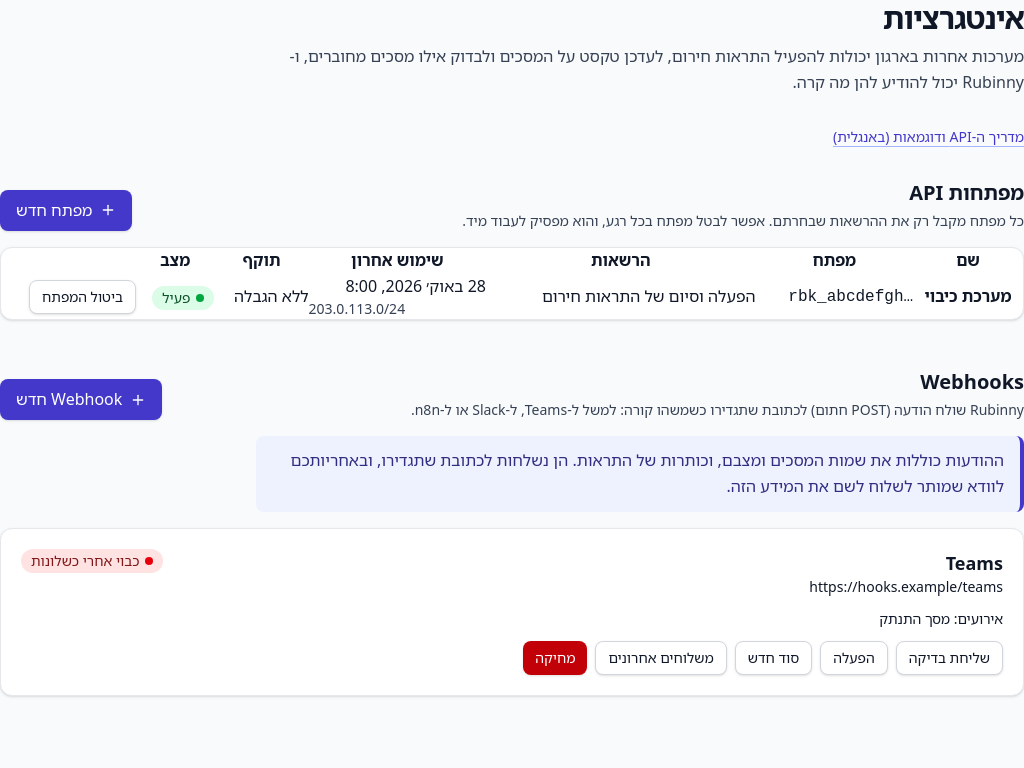
Scenario: integrations page › lists keys without their secret, and shows a new key once
Expected: the text "מערכת כיבוי" is shown, left=924, top=285, right=1012, bottom=307
Expected: the text "rbk_abcdefgh…" is shown, left=788, top=288, right=913, bottom=306
Click the button "מפתח חדש".
click(66, 210)  # box left=0, top=190, right=132, bottom=231
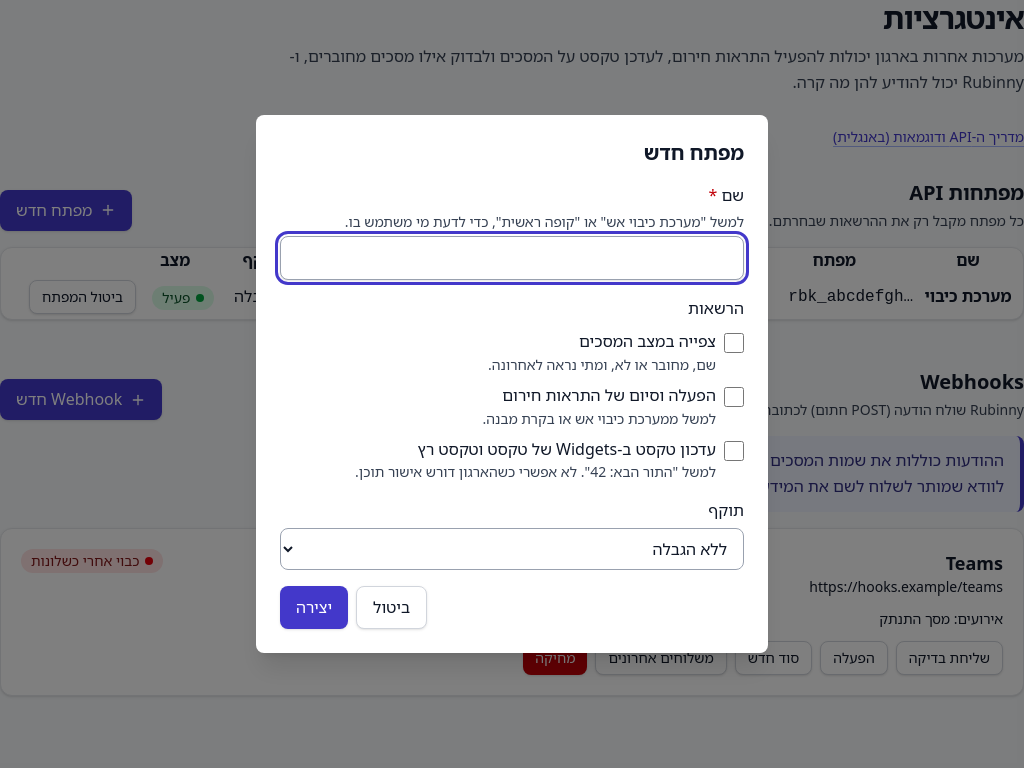
Type "קופה" into the field labelled "שם *".
click(512, 258); type("קופה")  # box left=280, top=236, right=744, bottom=280
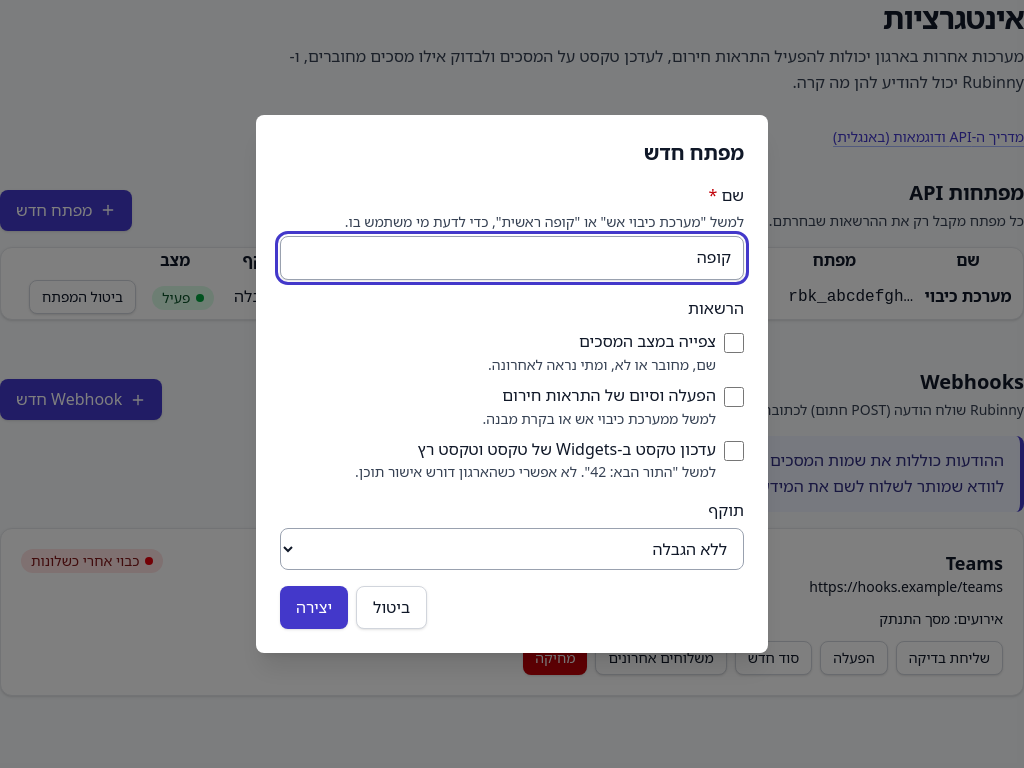
Click the checkbox labelled "עדכון טקסט ב-Widgets של טקסט וטקסט רץ".
click(734, 451)  # box left=724, top=441, right=744, bottom=461
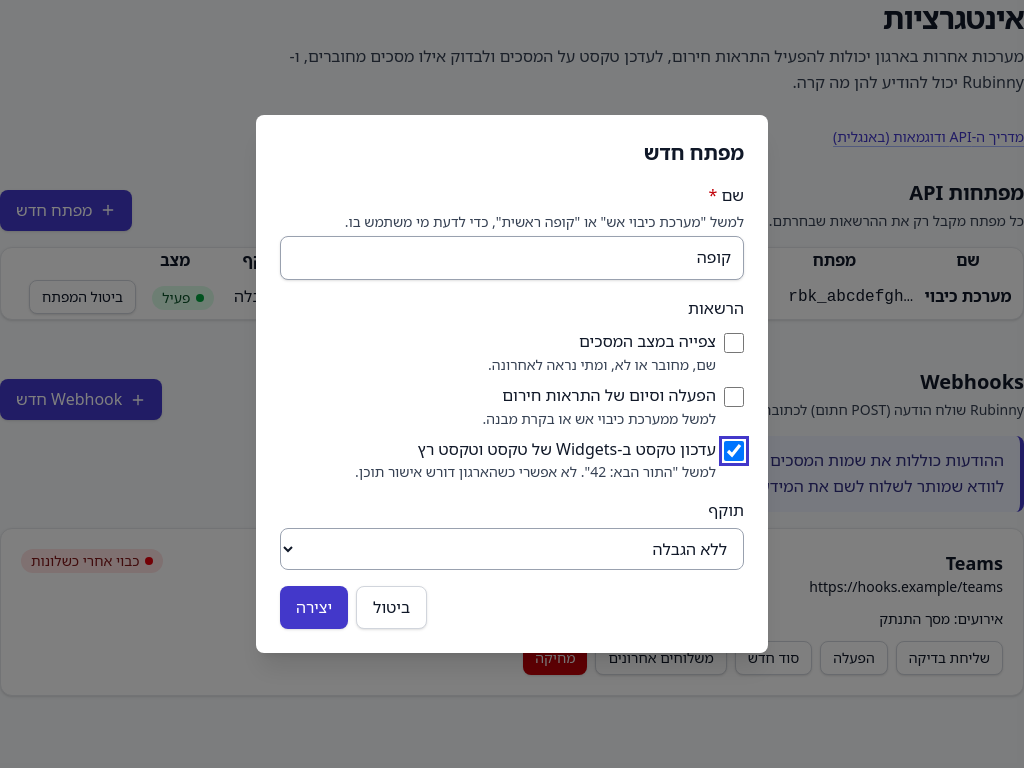
Select "90 ימים" in the dropdown labelled "תוקף" at point(512, 549), box left=280, top=528, right=744, bottom=570
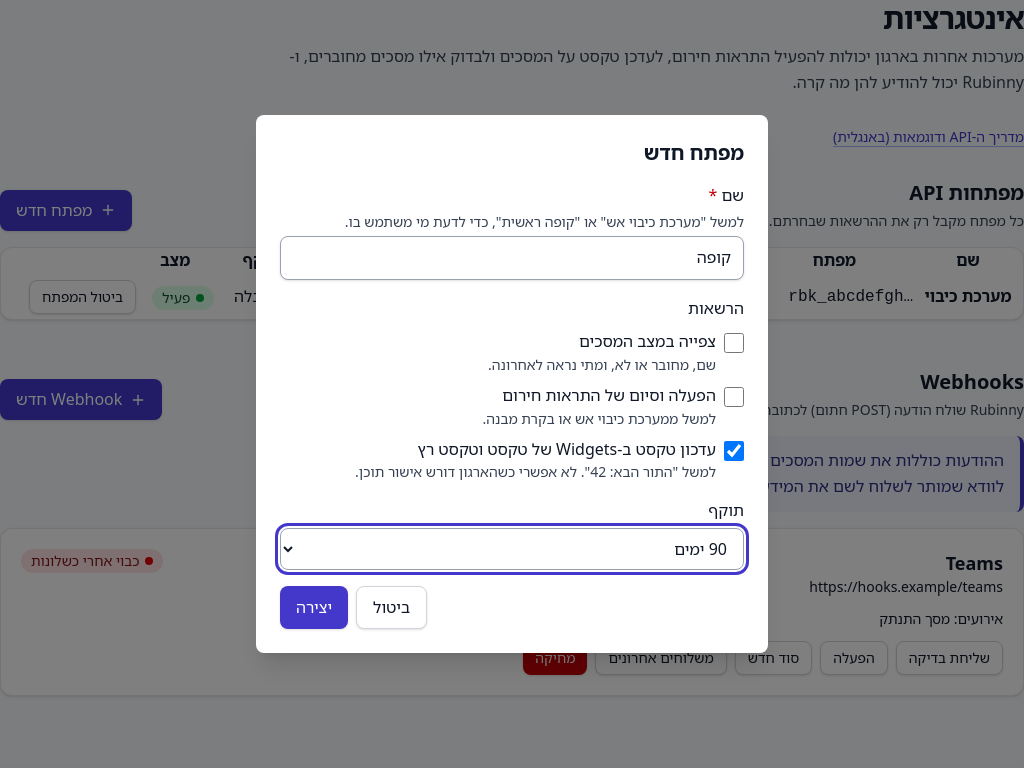
Click the button "יצירה".
click(314, 608)  # box left=280, top=586, right=348, bottom=629
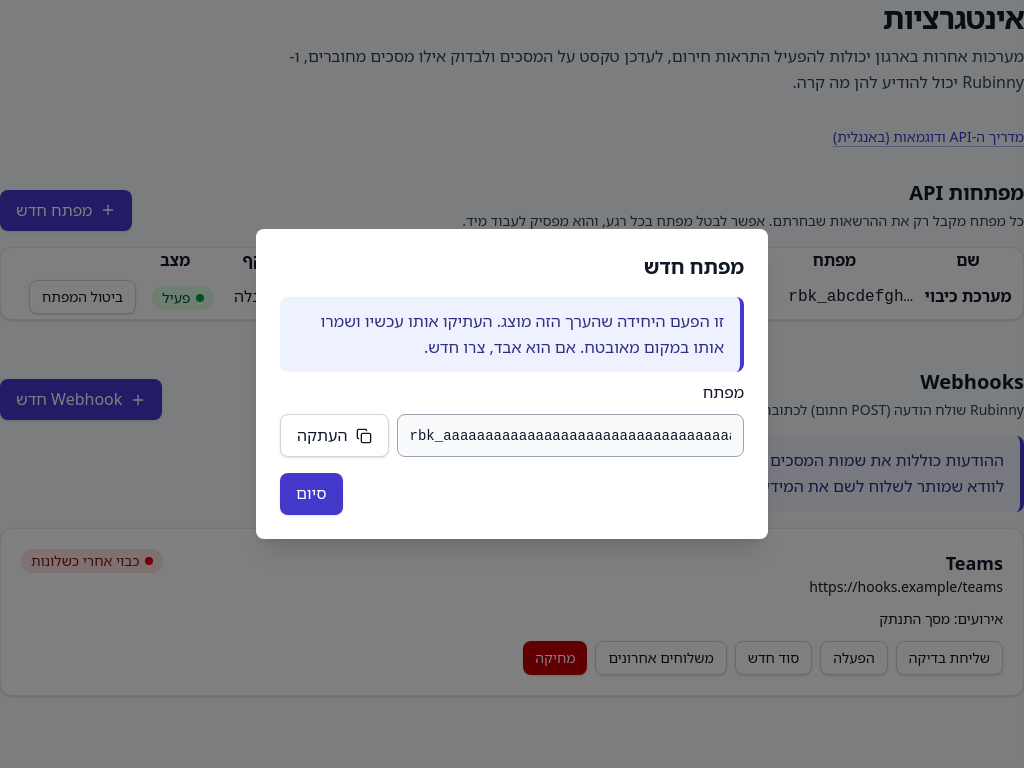
Now the text "זו הפעם היחידה" is shown, box left=320, top=310, right=724, bottom=358
